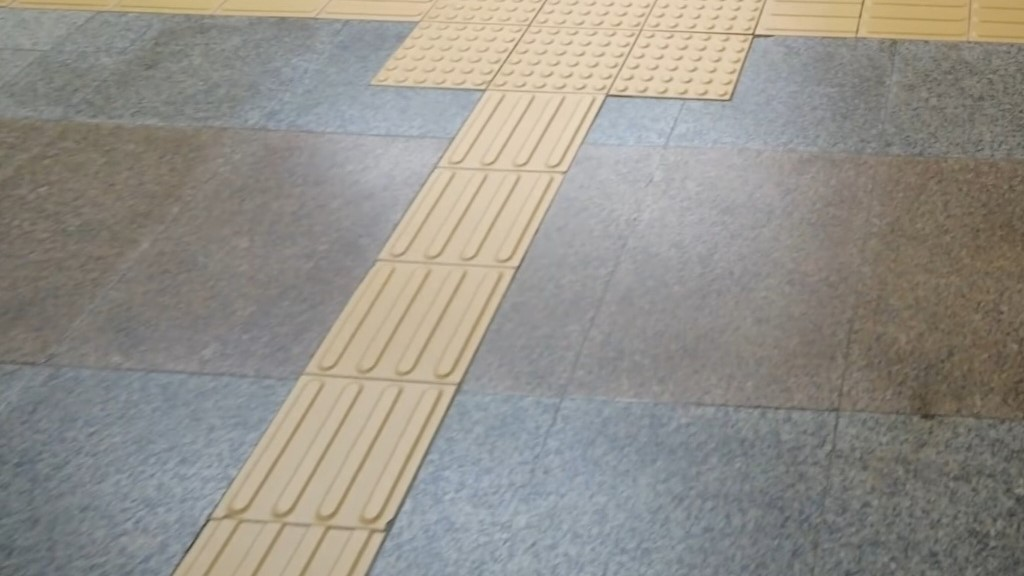guideBlock: (252, 384, 412, 520), (352, 273, 523, 386), (395, 163, 547, 265), (178, 519, 372, 576), (462, 87, 584, 165)
warningBlock: (623, 31, 736, 101), (512, 9, 615, 85), (413, 21, 506, 80)
